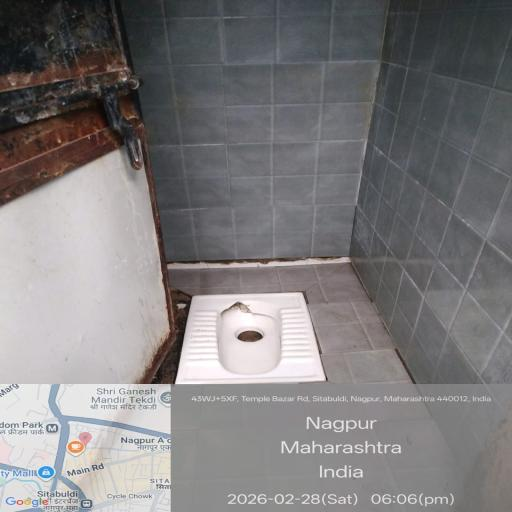clean_floor: (144, 262, 473, 512), (178, 24, 472, 231)
clean_indian: (161, 262, 334, 407)
damage: (209, 279, 274, 326)
partial_dirty_floor: (1, 16, 187, 470)
